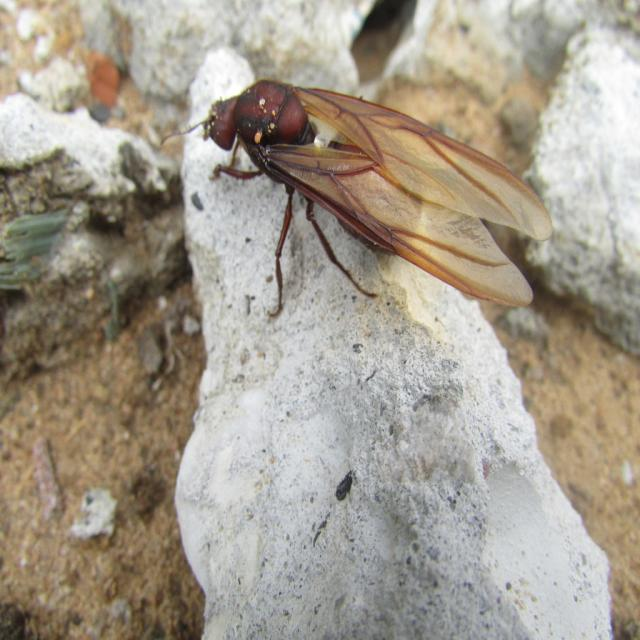Alive-Female-Alate: (160, 78, 554, 321)
